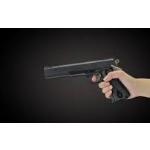Pistol: (44, 50, 130, 100)
